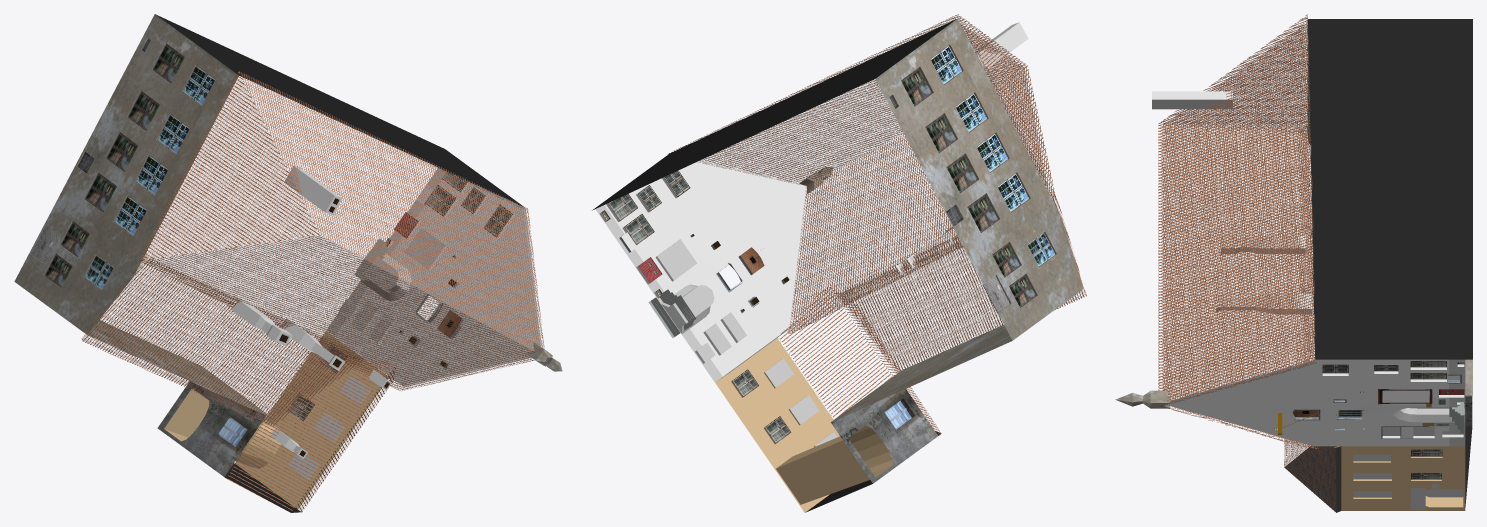
The model's file is Lai-29 ja Lai-29A.obj.
3 renders of one model, left to right at view 1: azimuth 30°, elevation 25°; view 2: azimuth 150°, elevation 25°; view 3: azimuth 270°, elevation 25°, orthographic. The views are drawn at different scales.
Parts seen in each view (by area): view 1: Lai_29; view 2: Lai_29; view 3: Lai_29.
Boxes of the visible parts, x1=… form: Lai_29: x1=14, y1=14, x2=562, y2=512; Lai_29: x1=592, y1=14, x2=1086, y2=512; Lai_29: x1=1115, y1=14, x2=1472, y2=512.
Bounding box in the file's own units: 32.08 × 33.03 × 23.21.
